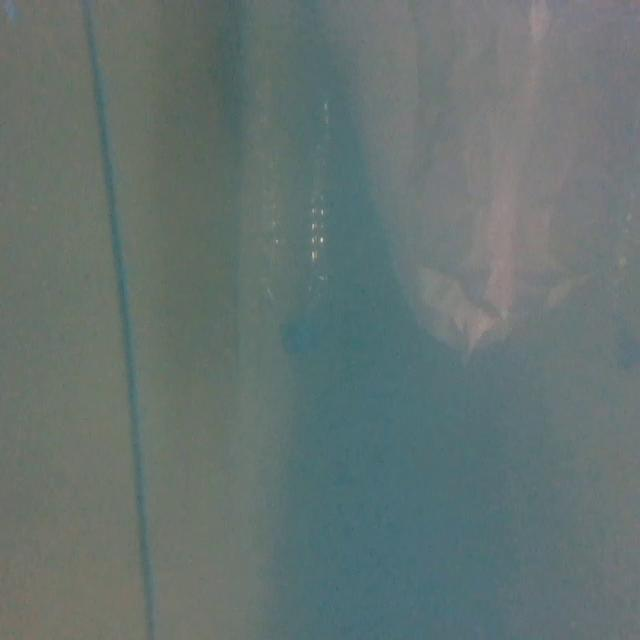plastic bags: (329, 0, 640, 353)
plastic bottle: (255, 93, 330, 360)
